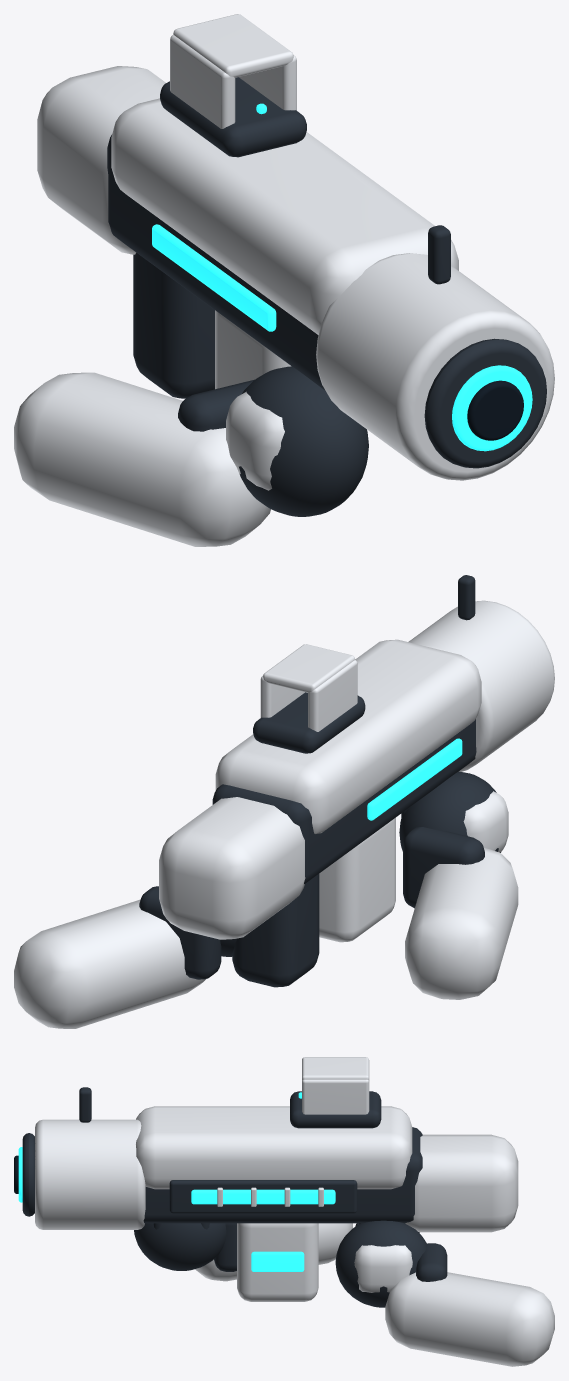
Rendered from PulseRifle.glb.
3 renders of one model, top to bottom at view 1: azimuth 30°, elevation 25°; view 2: azimuth 150°, elevation 25°; view 3: azimuth 270°, elevation 25°, orthographic. The views are drawn at different scales.
Parts seen in each view (by area): view 1: UpperShell, ForearmShell.001, FrontHousing, RearShell, Palm.001, Grip, MechanicalSpine, MuzzleInsert, SightBase, SightTop, SightFrameLeft, HandShell.001 (+7 smaller); view 2: UpperShell, RearShell, ForearmShell, ForearmShell.001, FrontHousing, PowerCartridge, MechanicalSpine, Grip, Palm.001, WristSeal.001, SightBase, SightTop (+6 smaller); view 3: UpperShell, ForearmShell, FrontHousing, RearShell, MechanicalSpine, PowerCartridge, SideInset, Palm.001, Palm, SightFrameRight, HandShell, PowerWindow (+8 smaller).
Part boxes in pixels (x1,y1,x2,y2): UpperShell: [111, 98, 458, 334]; ForearmShell.001: [14, 372, 270, 546]; FrontHousing: [316, 253, 554, 480]; RearShell: [37, 66, 165, 254]; Palm.001: [239, 366, 368, 516]; Grip: [133, 252, 214, 398]; MechanicalSpine: [107, 135, 325, 390]; MuzzleInsert: [424, 338, 546, 468]; SightBase: [160, 77, 306, 157]; SightTop: [173, 14, 293, 77]; SightFrameLeft: [170, 35, 235, 128]; HandShell.001: [226, 391, 284, 490]; UpperShell: [215, 639, 481, 833]; RearShell: [159, 797, 305, 939]; ForearmShell: [14, 899, 205, 1028]; ForearmShell.001: [405, 848, 518, 999]; FrontHousing: [408, 600, 554, 771]; PowerCartridge: [319, 817, 395, 942]; MechanicalSpine: [212, 719, 476, 883]; Grip: [232, 874, 319, 987]; Palm.001: [399, 771, 501, 852]; WristSeal.001: [403, 827, 484, 908]; SightBase: [253, 692, 365, 753]; SightTop: [263, 644, 355, 692]; UpperShell: [136, 1106, 412, 1189]; ForearmShell: [385, 1272, 554, 1366]; FrontHousing: [35, 1119, 145, 1229]; RearShell: [405, 1134, 518, 1232]; MechanicalSpine: [143, 1127, 422, 1223]; PowerCartridge: [237, 1223, 318, 1301]; SideInset: [169, 1180, 357, 1213]; Palm.001: [134, 1223, 226, 1270]; Palm: [335, 1220, 427, 1307]; SightFrameRight: [302, 1079, 369, 1114]; HandShell: [354, 1245, 412, 1292]; PowerWindow: [191, 1189, 335, 1204].
Size of the model in its own units: 0.6662 by 0.559 by 1.12.
